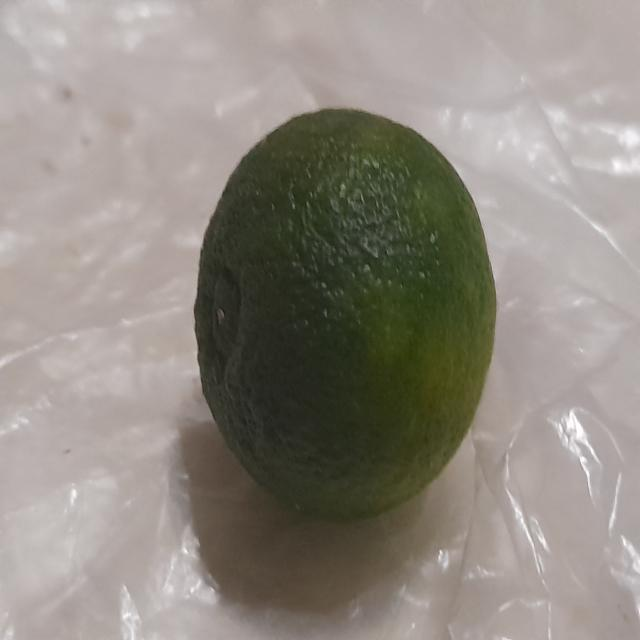heathy: (187, 105, 502, 529)
